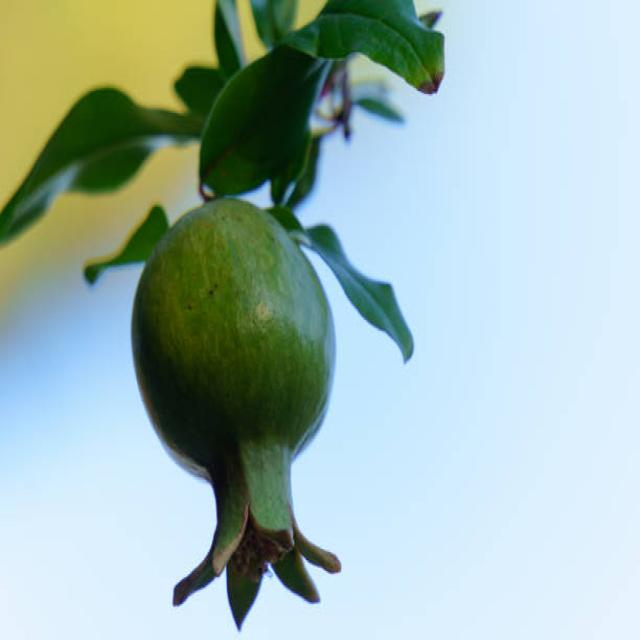Unripe: (131, 195, 343, 630)
